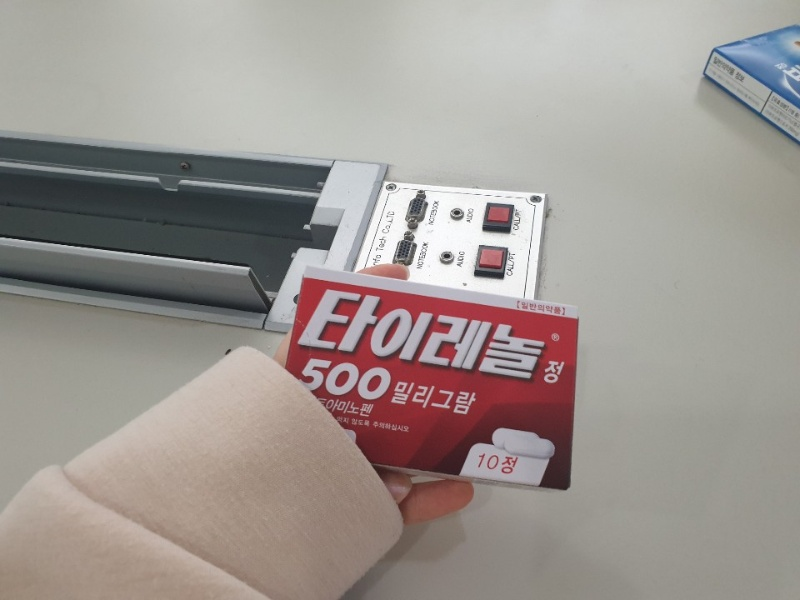tylenol: (287, 266, 581, 491)
